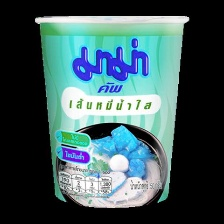paper_cup: (28, 9, 193, 212)
